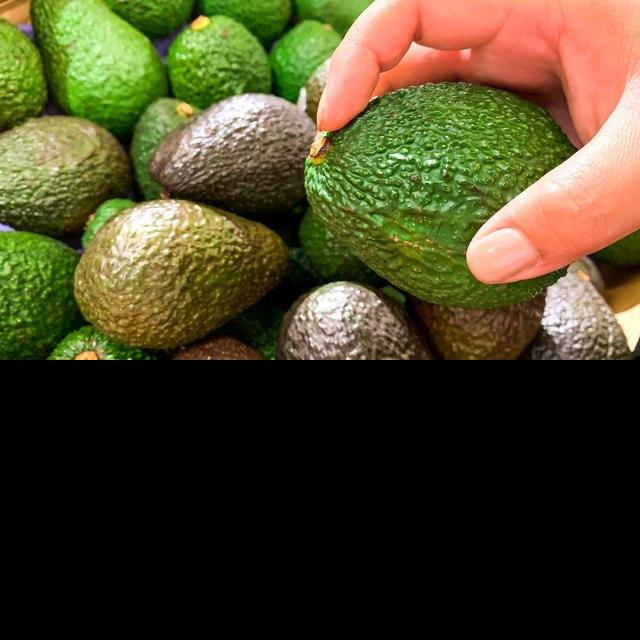almost: (73, 200, 289, 348), (1, 115, 133, 236)
ripe: (149, 93, 317, 218), (276, 281, 432, 360), (405, 283, 547, 360), (530, 270, 631, 359)
unripe: (304, 82, 582, 309), (30, 1, 168, 135), (1, 230, 81, 359), (168, 15, 269, 111), (270, 18, 345, 104)
